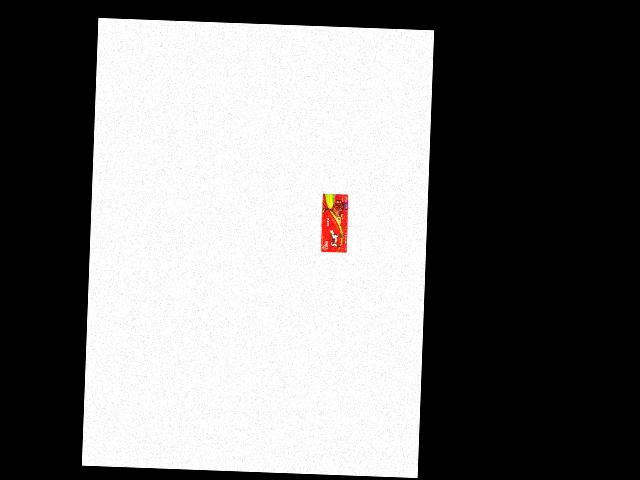chocolate: (318, 192, 354, 257)
